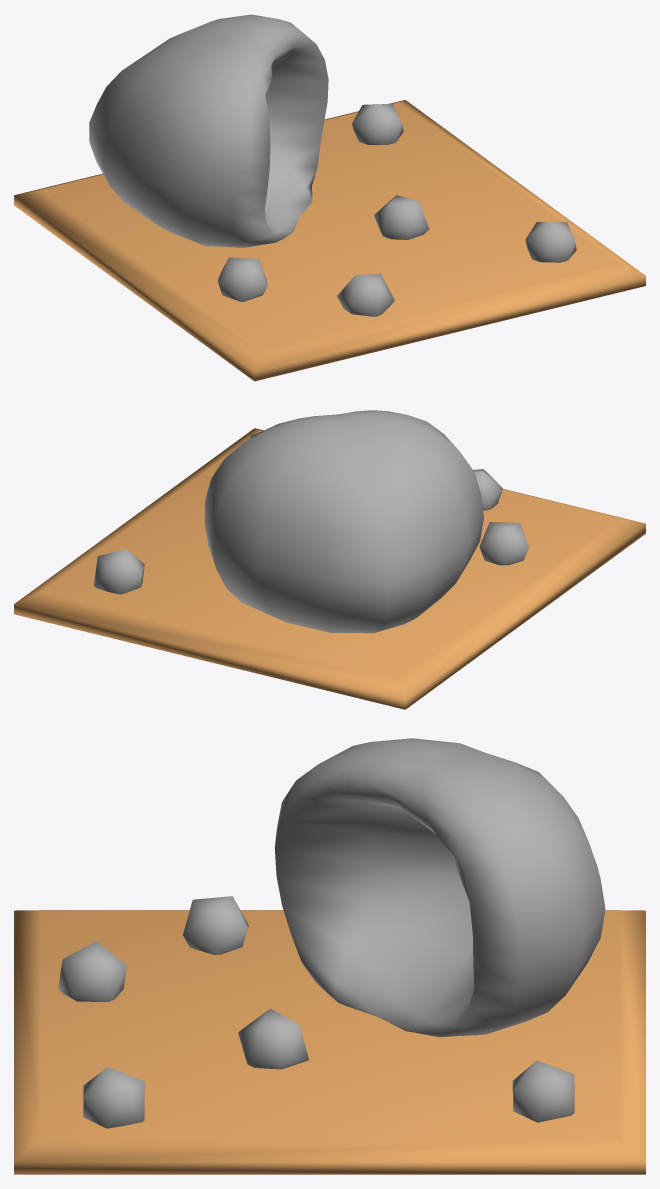
File: caveGatherers.glb
The picture shows the model from 3 angles, top to bottom: view 1: azimuth 30°, elevation 25°; view 2: azimuth 150°, elevation 25°; view 3: azimuth 270°, elevation 25°; orthographic projection. The views are drawn at different scales.
Parts seen in each view (by area): view 1: Cube, Sphere, Icosphere.002, Icosphere.003, Icosphere.001, Icosphere, Icosphere.004; view 2: Cube, Sphere, Icosphere, Icosphere.001, Icosphere.002; view 3: Cube, Sphere, Icosphere.002, Icosphere, Icosphere.004, Icosphere.003, Icosphere.001.
Part boxes in pixels (x1,y1,x2,y2): Cube: (14,100,645,381); Sphere: (89,14,328,247); Icosphere.002: (337,273,394,316); Icosphere.003: (374,195,429,239); Icosphere.001: (217,257,267,301); Icosphere: (352,103,403,144); Icosphere.004: (525,222,576,262); Cube: (14,428,645,709); Sphere: (204,410,483,633); Icosphere: (94,549,144,594); Icosphere.001: (479,522,528,565); Icosphere.002: (473,469,503,510); Cube: (14,910,645,1174); Sphere: (274,738,605,1037); Icosphere.002: (58,941,126,1001); Icosphere: (512,1060,574,1122); Icosphere.004: (83,1067,144,1128); Icosphere.003: (238,1008,308,1069); Icosphere.001: (183,896,248,954).
Size of the model in its own units: 2.91 by 1.38 by 3.1.
